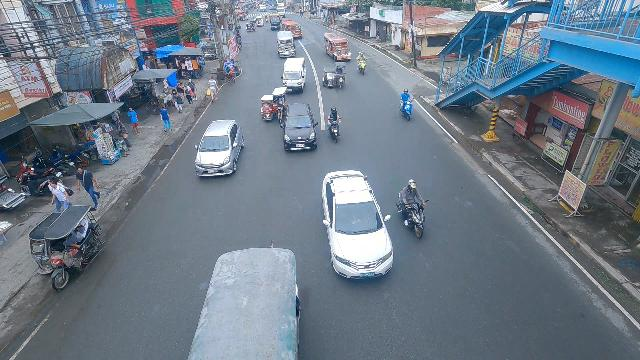car: (317, 169, 397, 292), (191, 119, 245, 180), (281, 103, 318, 155), (269, 15, 282, 31)
jeepney: (323, 31, 352, 62), (275, 30, 299, 59), (281, 19, 304, 40)
motorcycle: (396, 175, 431, 244), (326, 108, 343, 144), (399, 88, 416, 122), (356, 56, 370, 76), (264, 14, 270, 24)
van: (280, 57, 308, 94)
